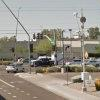Car: (1, 57, 28, 77)
